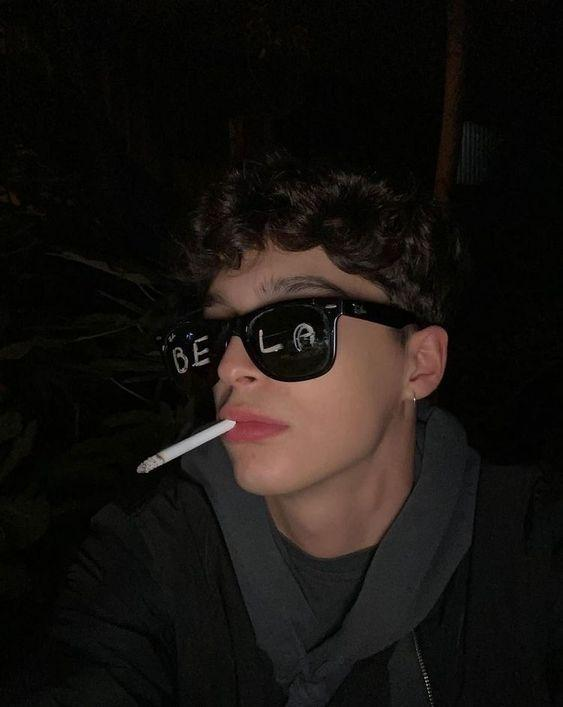cigarette: (137, 420, 236, 474)
